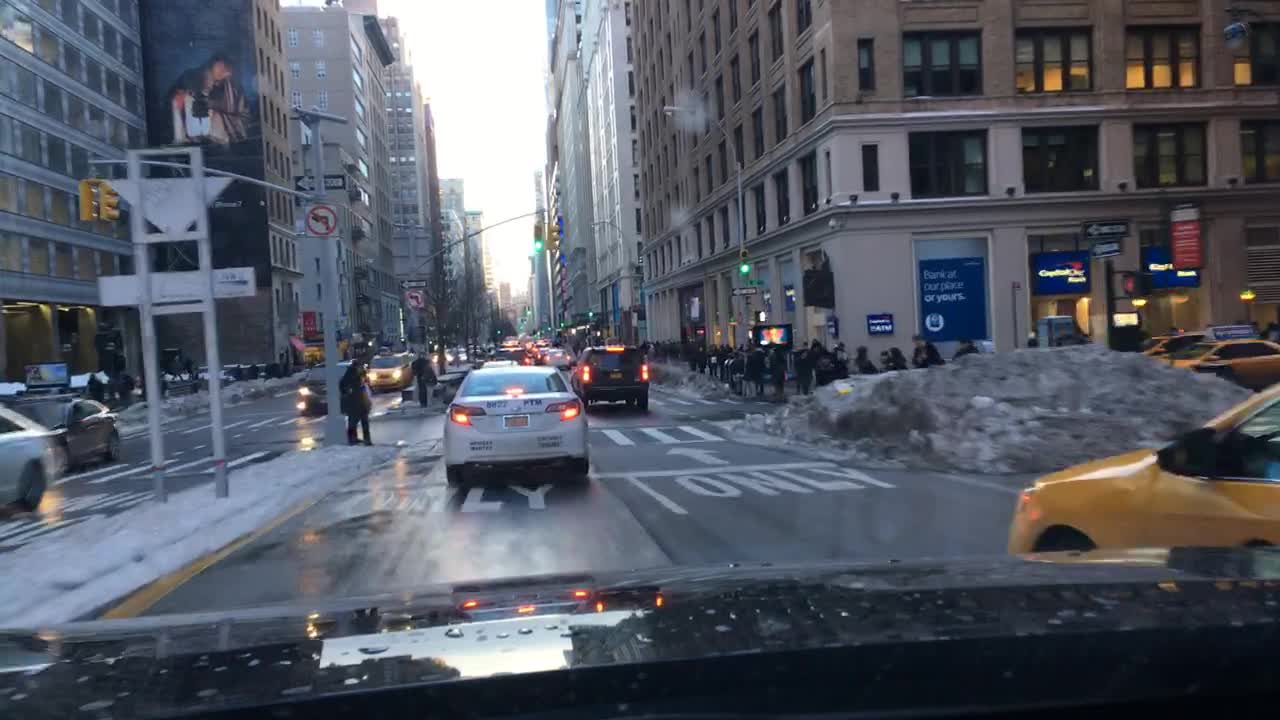car: (1007, 363, 1279, 549), (444, 364, 589, 492), (0, 391, 121, 475), (1146, 324, 1279, 383), (0, 403, 52, 519), (569, 345, 651, 409), (1126, 324, 1255, 359), (296, 361, 348, 413), (366, 350, 415, 391), (541, 346, 571, 369), (489, 347, 530, 363), (430, 347, 455, 365), (454, 345, 472, 363), (480, 360, 513, 369), (532, 339, 552, 350)
person: (334, 337, 374, 445), (405, 349, 433, 407), (108, 363, 138, 407), (809, 333, 836, 381), (793, 339, 812, 397), (768, 343, 787, 397), (909, 333, 935, 367), (754, 344, 767, 397), (86, 368, 106, 401), (743, 341, 755, 395), (857, 337, 873, 377), (703, 341, 719, 379), (954, 334, 976, 360), (731, 352, 743, 398), (1023, 327, 1045, 348), (836, 334, 847, 375), (892, 342, 907, 369), (263, 356, 282, 376), (719, 343, 729, 378), (170, 359, 184, 382), (246, 359, 260, 380), (184, 357, 197, 379), (880, 347, 892, 369), (231, 361, 243, 381), (688, 346, 698, 369), (697, 341, 704, 368), (724, 345, 736, 358)
traffic light: (99, 182, 121, 221), (81, 184, 97, 220), (1118, 272, 1143, 295), (531, 221, 546, 254), (547, 219, 562, 251), (741, 252, 751, 275), (755, 311, 768, 324), (588, 305, 593, 319), (559, 318, 566, 328)
traffic sign: (293, 173, 346, 191), (1083, 219, 1129, 238), (308, 207, 337, 234), (403, 289, 425, 308), (1089, 241, 1120, 254), (729, 287, 758, 296), (401, 277, 426, 287)
